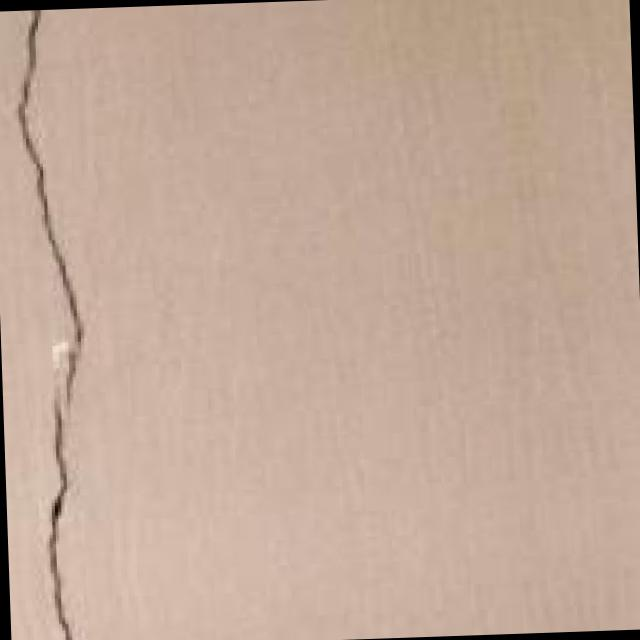crack: (0, 8, 110, 640)
